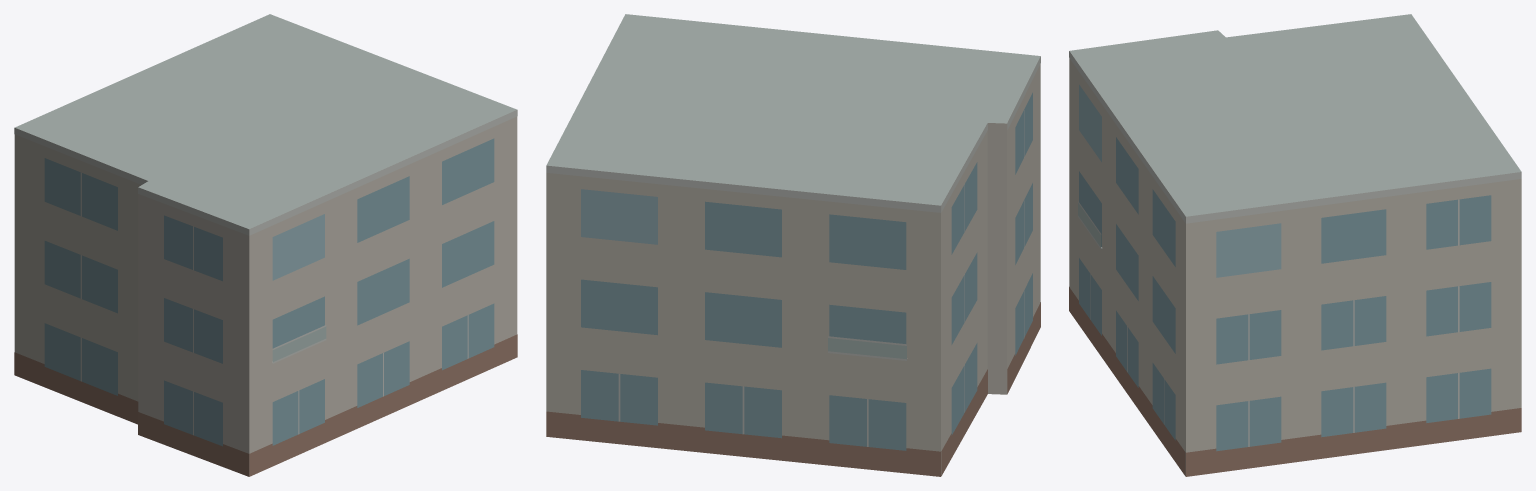
Rendered from survey-upis-32574287.glb.
3 views of the same model, side by side, from view 1: azimuth 30°, elevation 25°; view 2: azimuth 150°, elevation 25°; view 3: azimuth 270°, elevation 25° (orthographic). The views are drawn at different scales.
Visible parts, largest first — view 1: survey-upis-32574287.tmp; view 2: survey-upis-32574287.tmp; view 3: survey-upis-32574287.tmp.
Part boxes in pixels (box(x1,y1,x2,y2)): survey-upis-32574287.tmp: box(14, 14, 517, 476); survey-upis-32574287.tmp: box(546, 14, 1040, 476); survey-upis-32574287.tmp: box(1069, 14, 1521, 476).
Size of the model in its own units: 15.31 by 9.15 by 14.44.
